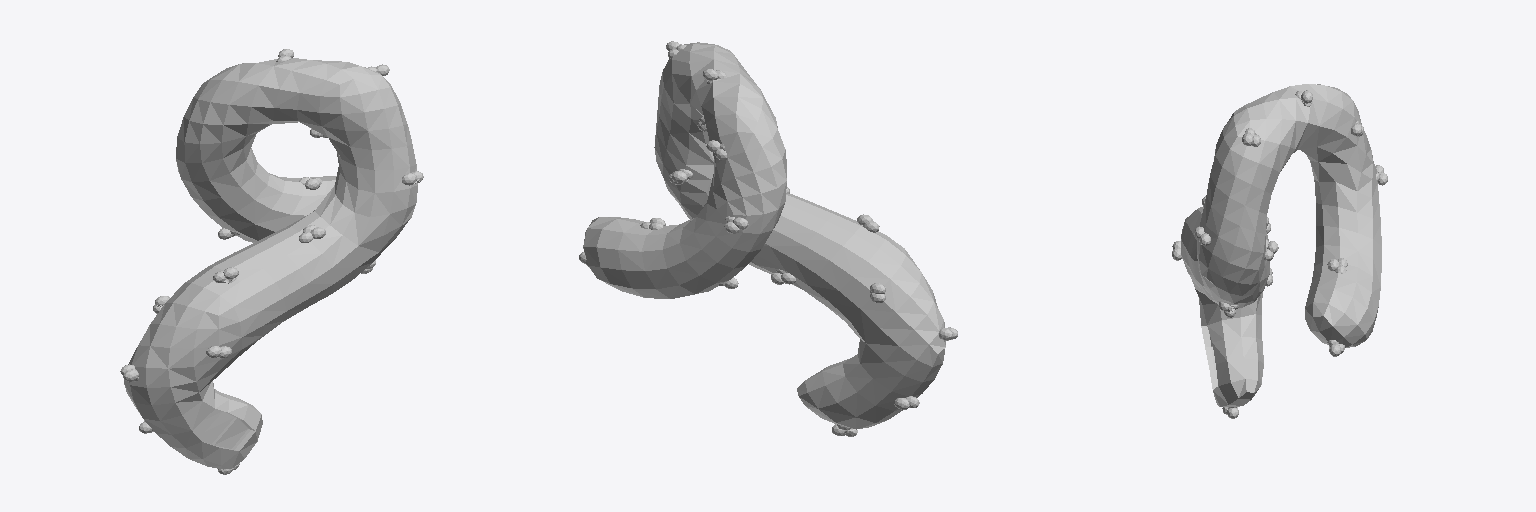
Rendered from viral worm thing geometry applied.obj.
3 views of the same model, side by side, from view 1: azimuth 30°, elevation 25°; view 2: azimuth 150°, elevation 25°; view 3: azimuth 270°, elevation 25° (orthographic).
Visible parts, largest first — view 1: Mball.013; view 2: Mball.013; view 3: Mball.013.
Part boxes in pixels (bbox=[...]): Mball.013: bbox=[120, 49, 423, 474]; Mball.013: bbox=[579, 41, 957, 436]; Mball.013: bbox=[1172, 84, 1387, 418].
Bounding box in the file's own units: 9.45 × 10.4 × 5.51.